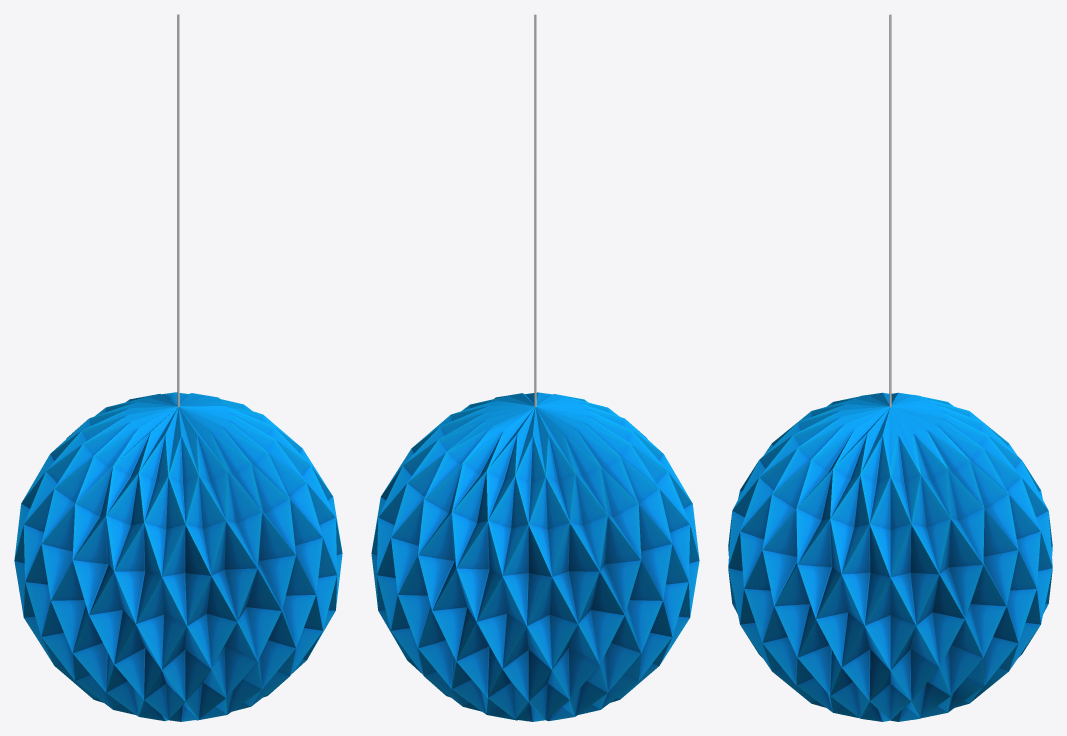
The model's file is PartyHangings01D_4.FBX.
The picture shows the model from 3 angles, left to right: view 1: azimuth 30°, elevation 25°; view 2: azimuth 150°, elevation 25°; view 3: azimuth 270°, elevation 25°; orthographic projection.
Parts seen in each view (by area): view 1: PartyHangings01D_4; view 2: PartyHangings01D_4; view 3: PartyHangings01D_4.
Boxes of the visible parts, left/top/right/bottom form: PartyHangings01D_4: left=14, top=14, right=342, bottom=721; PartyHangings01D_4: left=371, top=14, right=699, bottom=721; PartyHangings01D_4: left=728, top=14, right=1052, bottom=721.
Size of what is drawn, in the model's own units: 0.3614 by 0.8519 by 0.3614.
